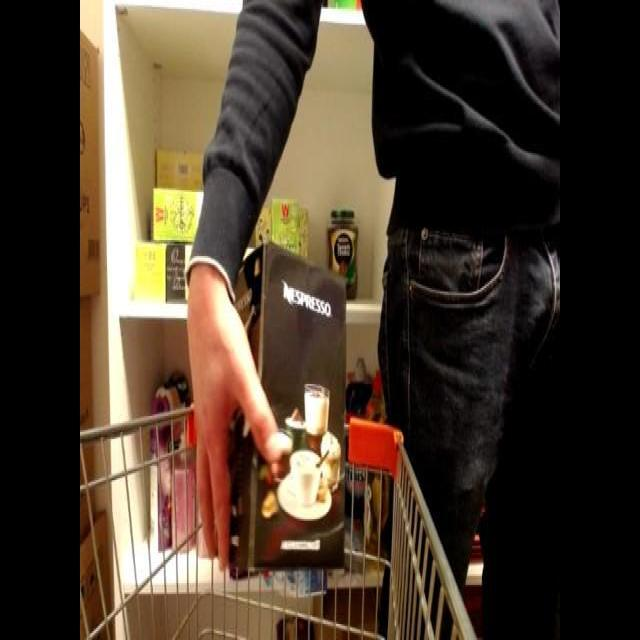Nespresso: (202, 249, 356, 578)
